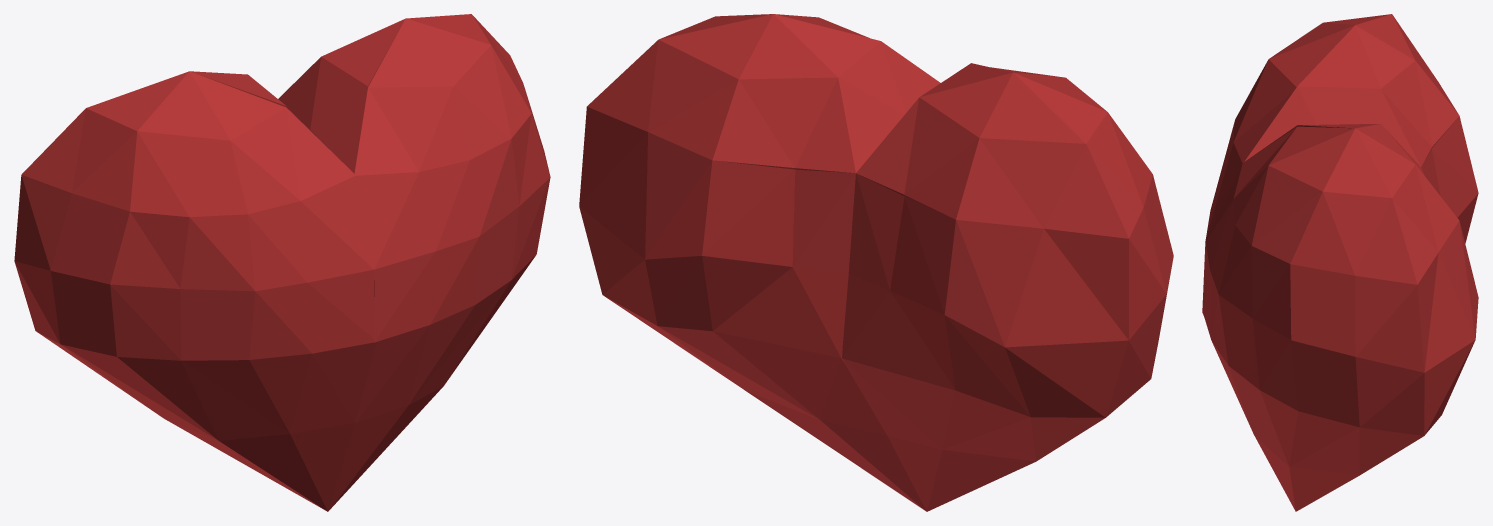
File: Heart.fbx
The picture shows the model from 3 angles, left to right: view 1: azimuth 30°, elevation 25°; view 2: azimuth 150°, elevation 25°; view 3: azimuth 270°, elevation 25°; orthographic projection. The views are drawn at different scales.
Visible parts, largest first — view 1: Heart:Mesh; view 2: Heart:Mesh; view 3: Heart:Mesh.
Part boxes in pixels (x1=…): Heart:Mesh: x1=14, y1=14, x2=550, y2=511; Heart:Mesh: x1=579, y1=14, x2=1173, y2=511; Heart:Mesh: x1=1202, y1=14, x2=1478, y2=511.
Size of the model in its own units: 12.82 by 11 by 6.33.
